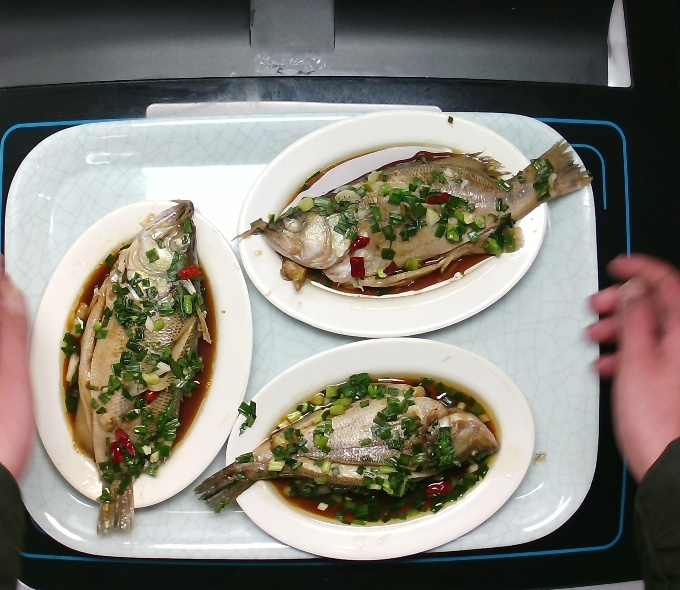wcq-LuYu: (243, 138, 596, 287), (80, 186, 212, 530), (198, 384, 505, 509)
